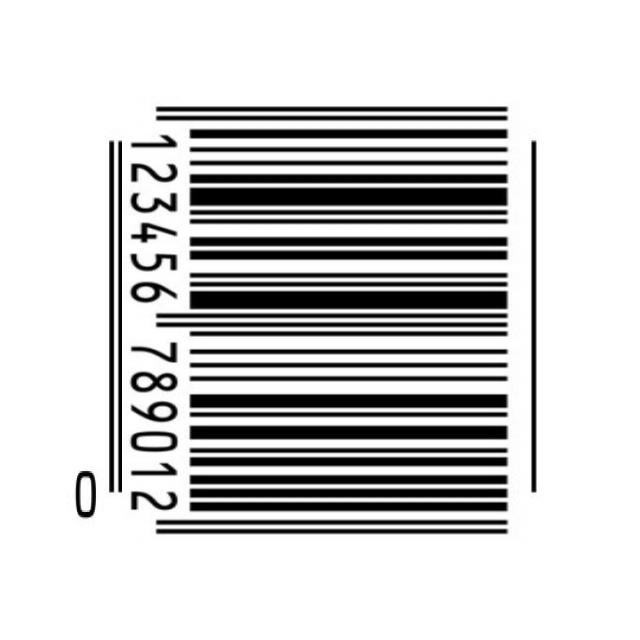Barkod: (110, 107, 541, 538)
